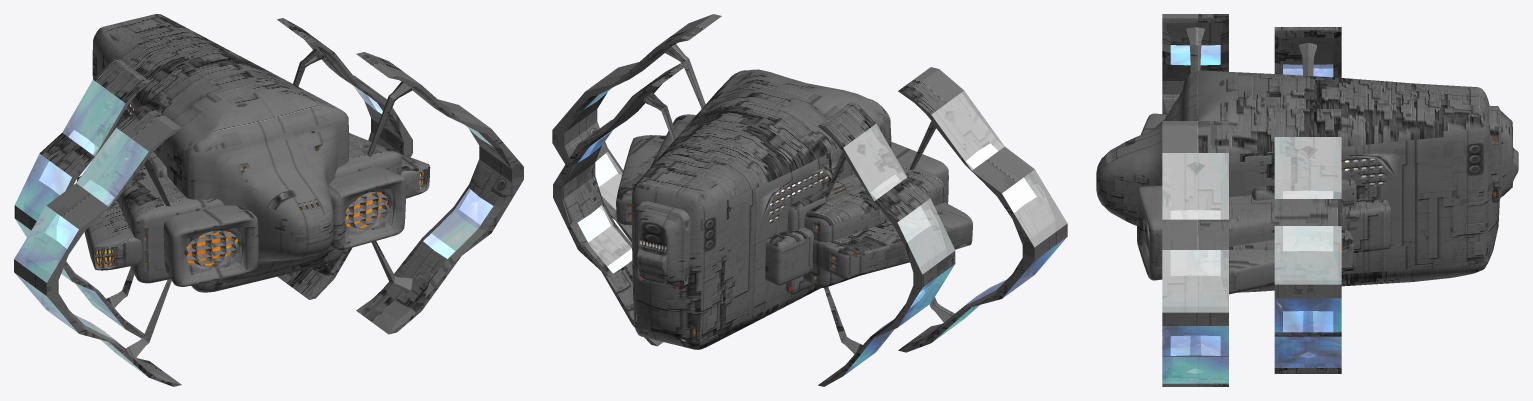
File: ship_invasion_module.glb
3 views of the same model, side by side, from view 1: azimuth 30°, elevation 25°; view 2: azimuth 150°, elevation 25°; view 3: azimuth 270°, elevation 25° (orthographic). The views are drawn at different scales.
Visible parts, largest first — view 1: MaterialFBXASC032FBXASC0352142150880 (×2), MaterialFBXASC032FBXASC0352142147988, Engine; view 2: MaterialFBXASC032FBXASC0352142150880 (×2), MaterialFBXASC032FBXASC0352142147988; view 3: MaterialFBXASC032FBXASC0352142150880 (×2), MaterialFBXASC032FBXASC0352142147988.
Part boxes in pixels (x1,y1,x2,y2): MaterialFBXASC032FBXASC0352142150880 (×2): (14, 14, 523, 386); MaterialFBXASC032FBXASC0352142147988: (14, 79, 493, 376); Engine: (95, 172, 423, 266); MaterialFBXASC032FBXASC0352142150880 (×2): (552, 14, 1067, 386); MaterialFBXASC032FBXASC0352142147988: (577, 88, 1066, 374); MaterialFBXASC032FBXASC0352142150880 (×2): (1096, 14, 1518, 386); MaterialFBXASC032FBXASC0352142147988: (1162, 45, 1341, 383).
Size of the model in its own units: 58.88 by 30.27 by 44.24.
Materials: 6 (3 with a texture image).
